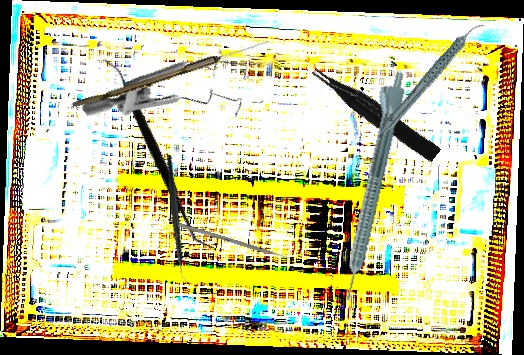Chopper: (138, 154, 219, 285)
Handpiece: (330, 68, 409, 303), (361, 20, 504, 137)
Pusher: (178, 222, 300, 264)
Spatula Surgical: (47, 56, 270, 251)
Speculum: (79, 6, 268, 190)
Surgical Spoon: (72, 35, 271, 113)
Tissue Forceps: (309, 57, 442, 168)
